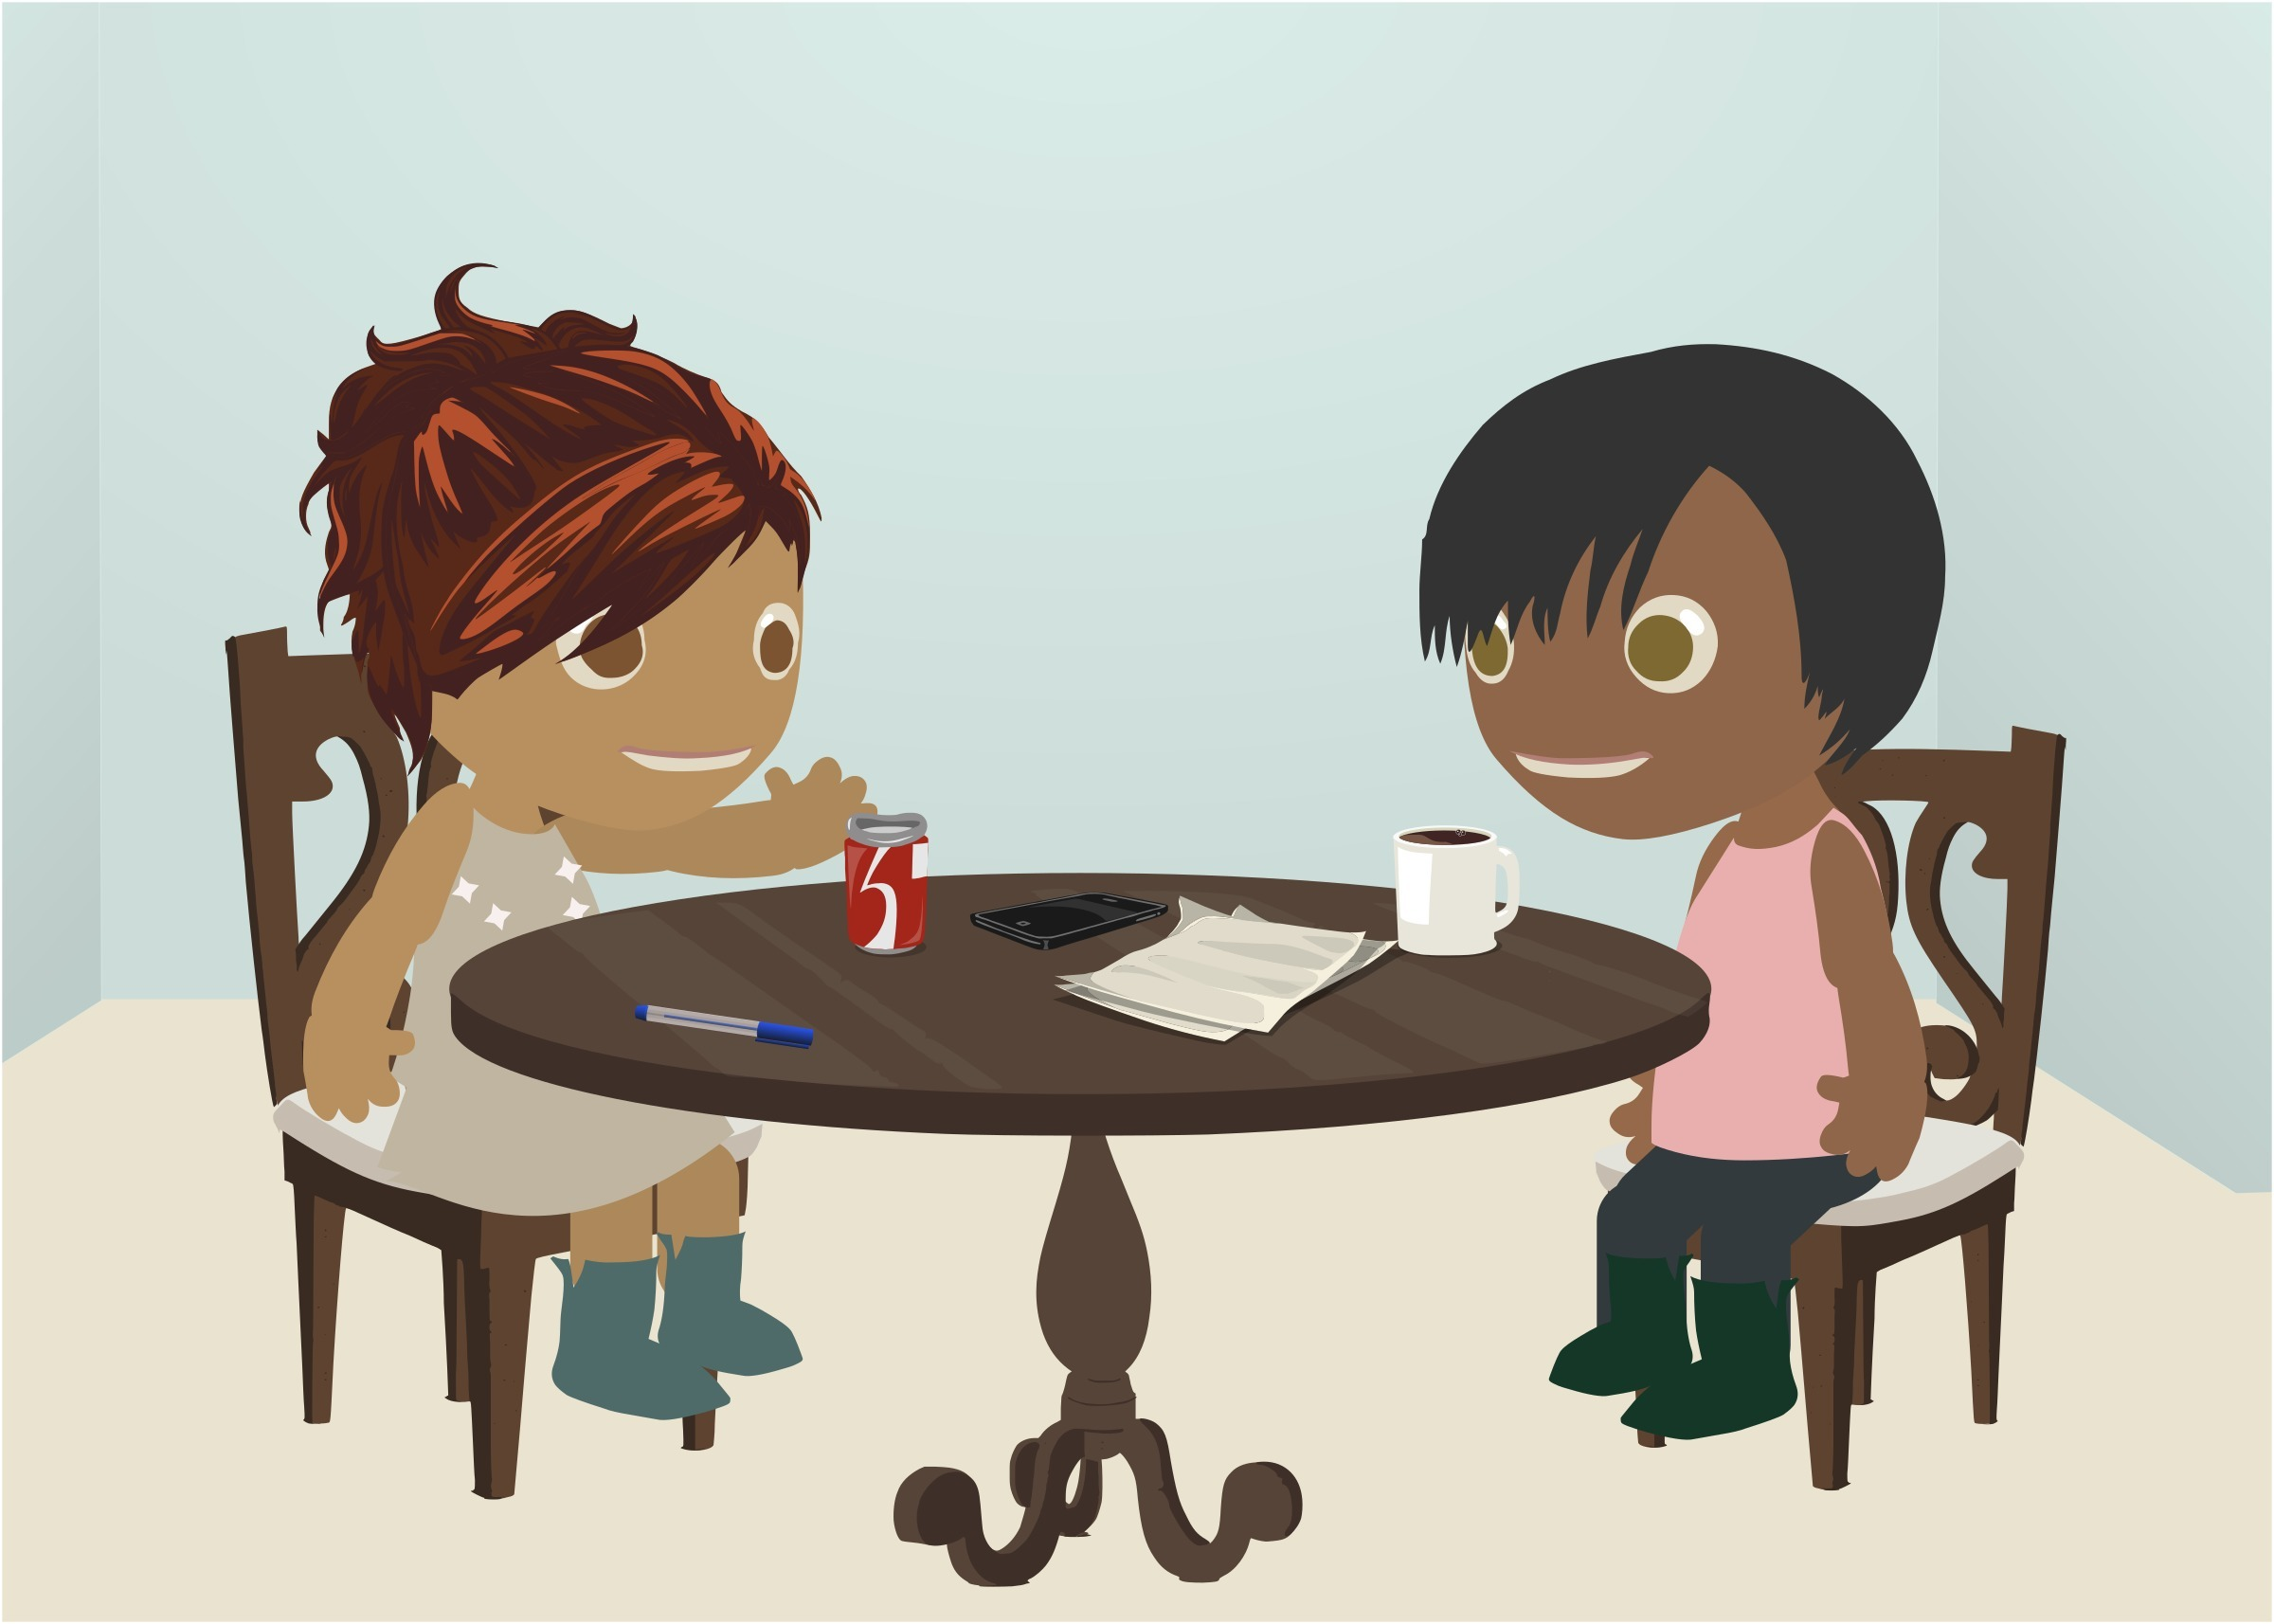chair: (166, 607, 732, 1487), (1624, 707, 2115, 1514)
diningtable: (442, 860, 1725, 1592)
person: (203, 282, 844, 1438), (1376, 316, 1937, 1463)
